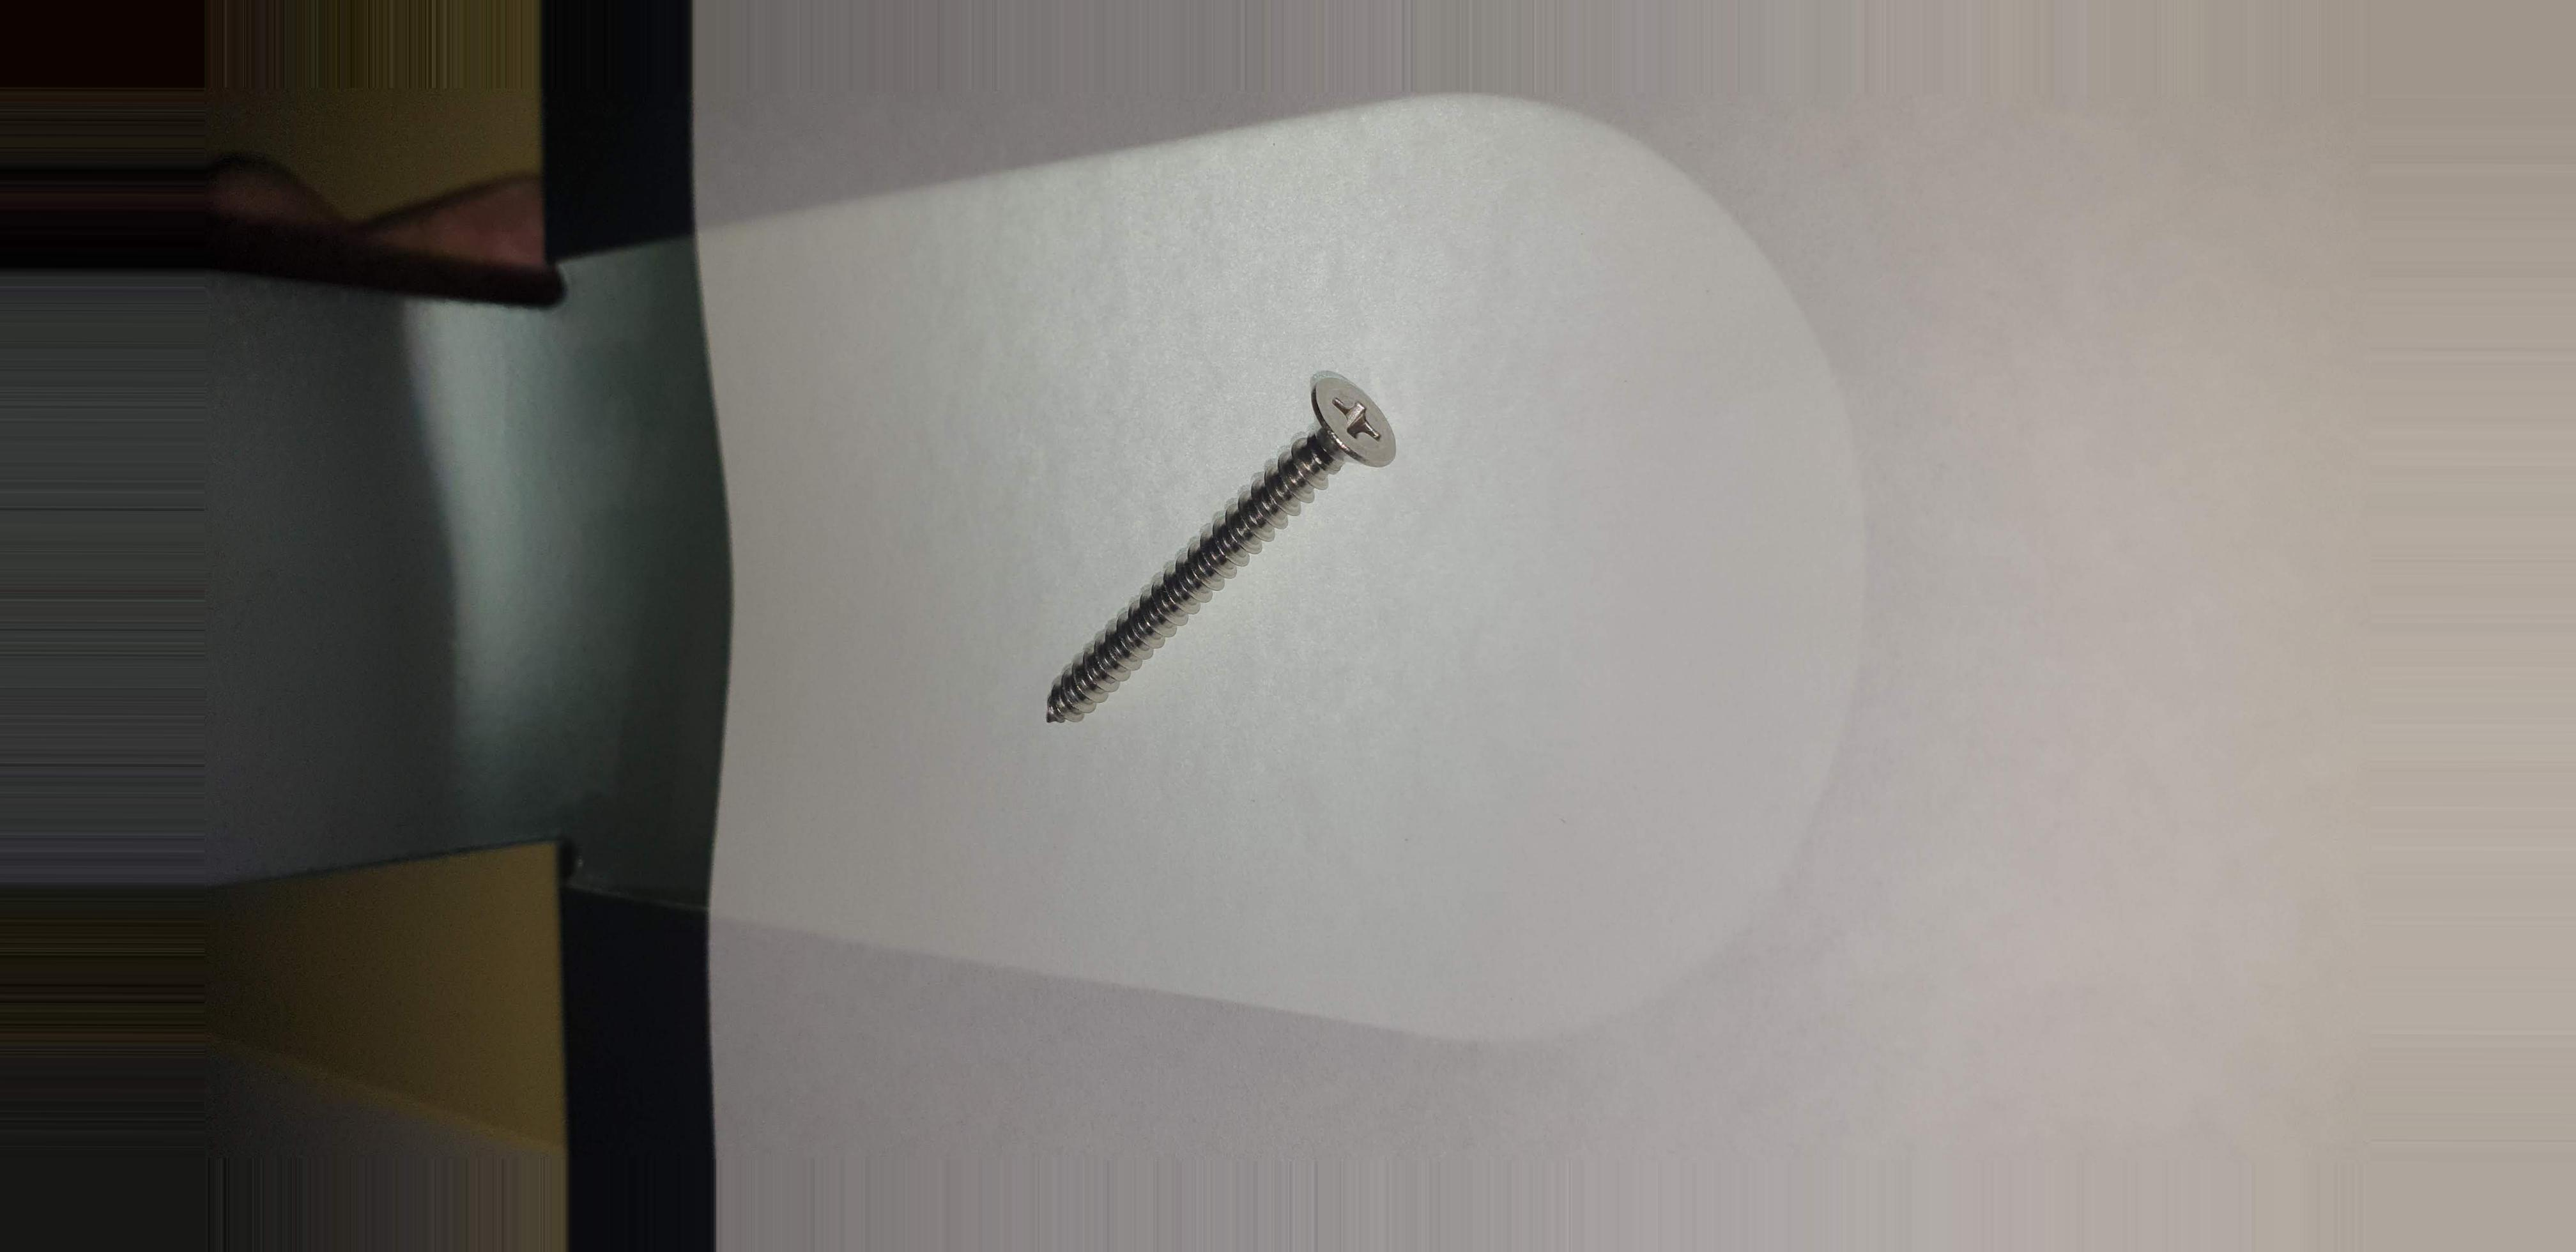fastener: (958, 358, 1483, 746)
